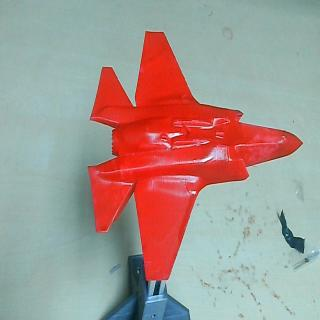Jet: (88, 31, 304, 282)
